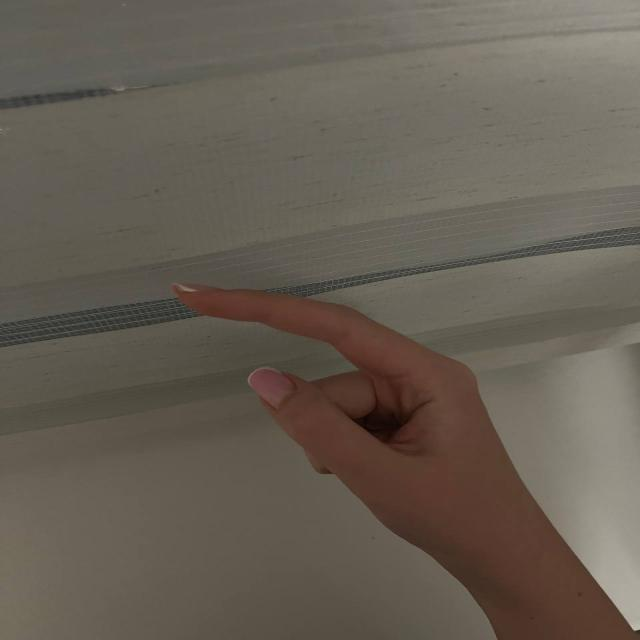z: (116, 217, 542, 560)
